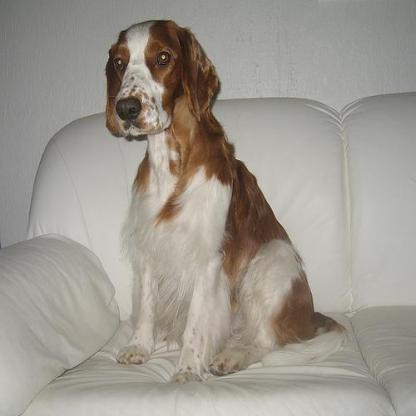Welsh_springer_spaniel: (101, 16, 344, 383)
